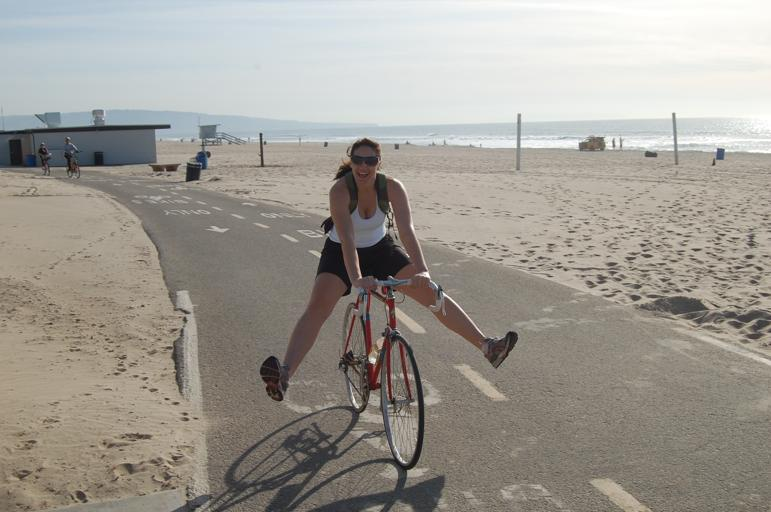non-vehicle: (338, 275, 445, 467), (63, 149, 83, 178), (37, 152, 53, 175)
